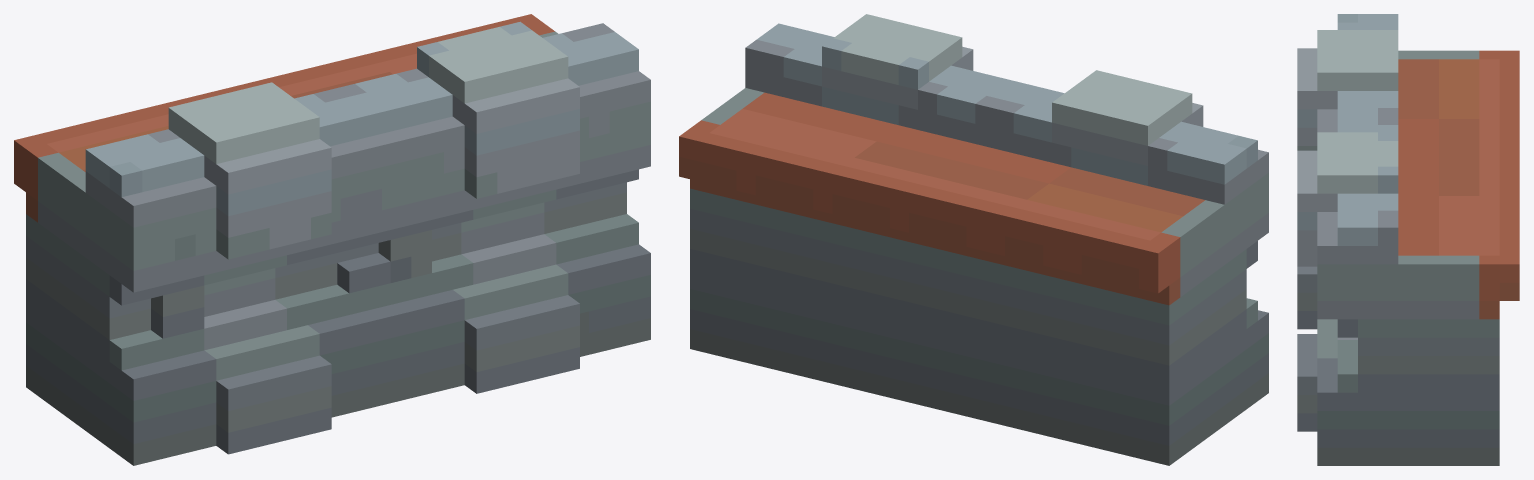
Rendered from wall_straight.glb.
The picture shows the model from 3 angles, left to right: view 1: azimuth 30°, elevation 25°; view 2: azimuth 150°, elevation 25°; view 3: azimuth 270°, elevation 25°; orthographic projection. The views are drawn at different scales.
Parts seen in each view (by area): view 1: wall_straight; view 2: wall_straight; view 3: wall_straight.
Part boxes in pixels (x1,y1,x2,y2): wall_straight: (14, 14, 650, 465); wall_straight: (679, 14, 1268, 465); wall_straight: (1297, 14, 1519, 465).
Bounding box in the file's own units: 2.08 × 1.17 × 0.9163.
Materials: 1 (1 with a texture image).
